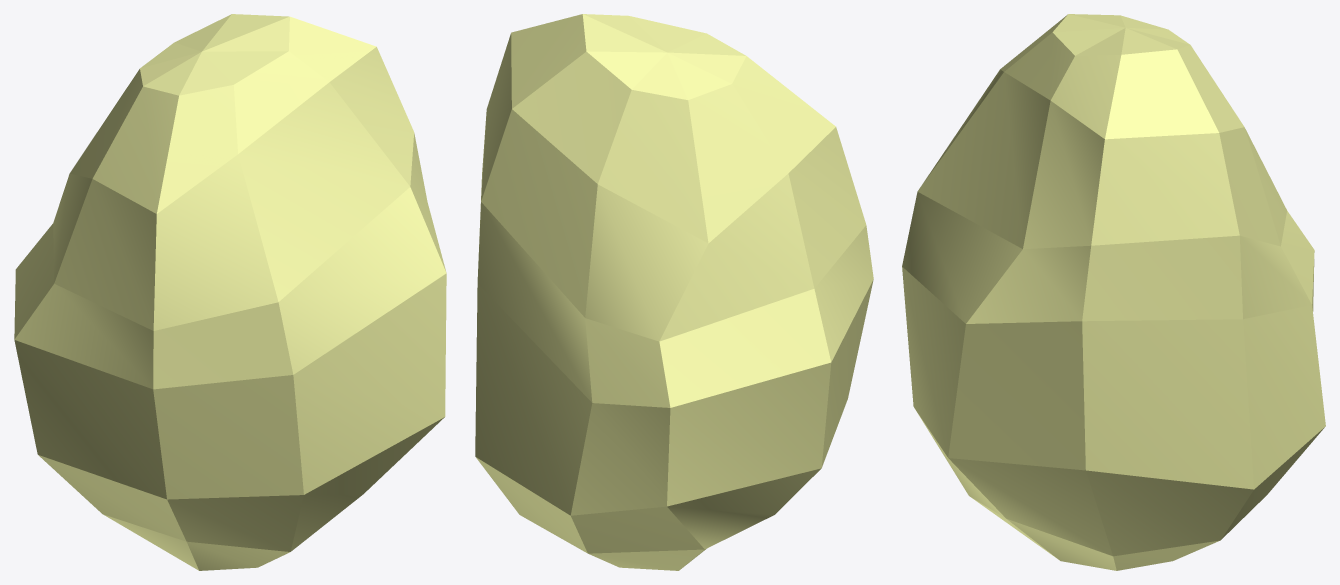
The model's file is Potato.fbx.
The picture shows the model from 3 angles, left to right: view 1: azimuth 30°, elevation 25°; view 2: azimuth 150°, elevation 25°; view 3: azimuth 270°, elevation 25°; orthographic projection. The views are drawn at different scales.
Parts seen in each view (by area): view 1: Potato; view 2: Potato; view 3: Potato.
Boxes of the visible parts, x1,y1,x2,y2 form: Potato: [14, 14, 446, 570]; Potato: [475, 14, 873, 570]; Potato: [902, 14, 1325, 570].
Size of the model in its own units: 10.87 by 14.17 by 10.2.
